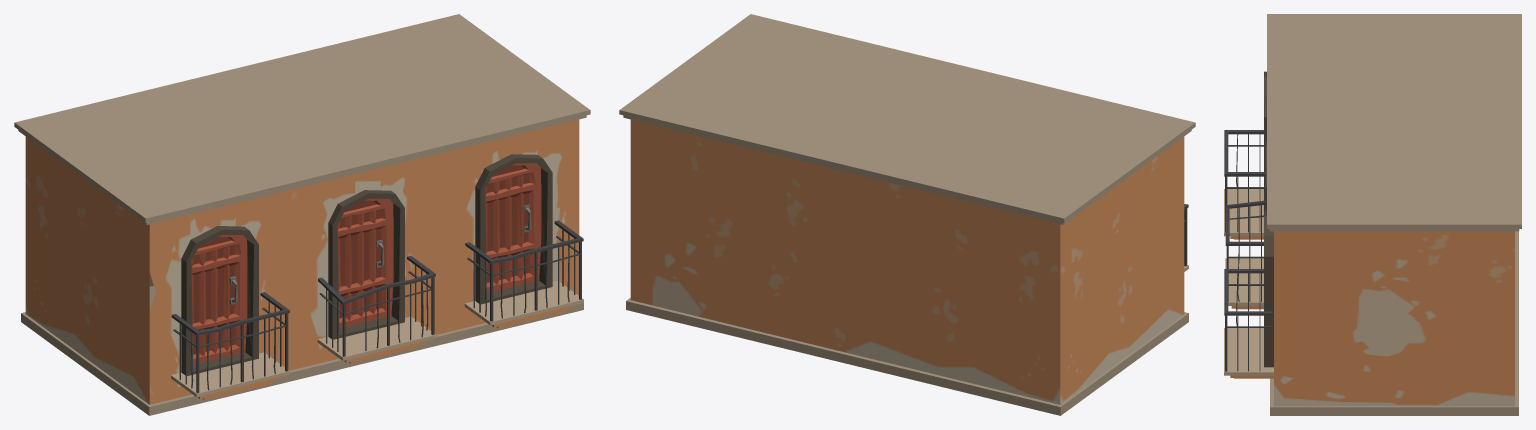
Rendered from SM_Bld_Cuba_Room_Long_03.glb.
3 views of the same model, side by side, from view 1: azimuth 30°, elevation 25°; view 2: azimuth 150°, elevation 25°; view 3: azimuth 270°, elevation 25° (orthographic). The views are drawn at different scales.
Parts seen in each view (by area): view 1: SM_Bld_Cuba_Room_Long_03_part00; view 2: SM_Bld_Cuba_Room_Long_03_part00; view 3: SM_Bld_Cuba_Room_Long_03_part00.
Part boxes in pixels (left/top/right/bottom): SM_Bld_Cuba_Room_Long_03_part00: left=14, top=14, right=590, bottom=415; SM_Bld_Cuba_Room_Long_03_part00: left=619, top=14, right=1195, bottom=415; SM_Bld_Cuba_Room_Long_03_part00: left=1224, top=14, right=1521, bottom=415.
Bounding box in the file's own units: 7.76 × 3.33 × 4.64.
Materials: 1 (1 with a texture image).
